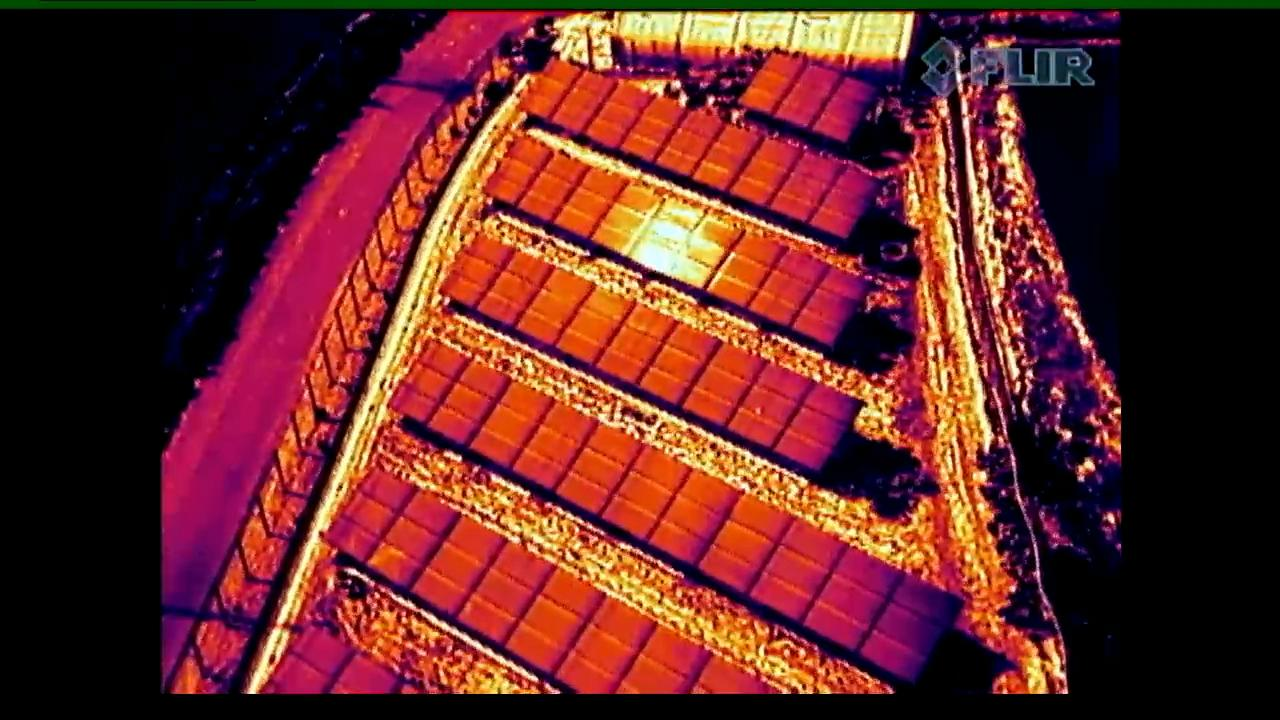hotspot: (728, 362, 814, 452)
